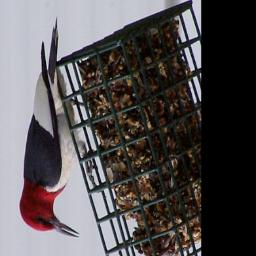Woodpecker: (18, 18, 97, 238)
